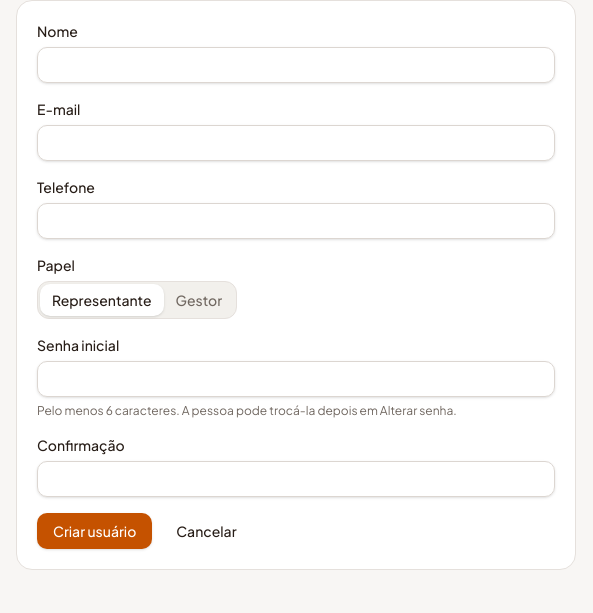
Test: NovoUsuarioPage › e-mail repetido (409) aparece junto do campo e fica na tela
Type "Bruna Lima" into the field labelled "Nome" at (296, 65), box [37,47,555,83]
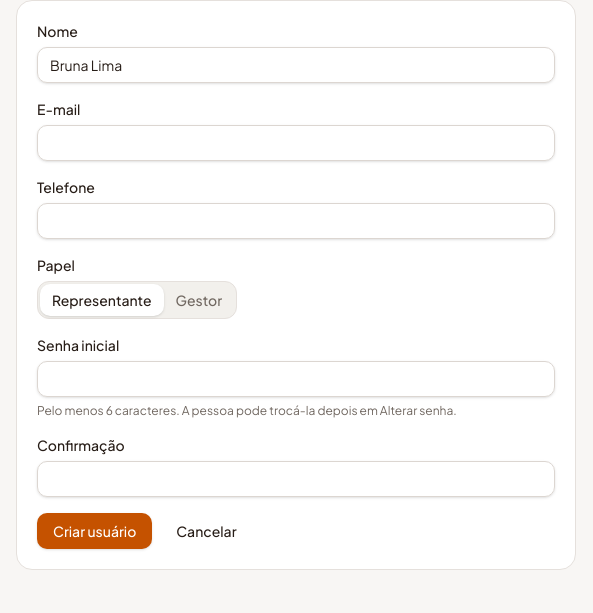
Type "bruna@chokolaten.com.br" into the field labelled "E-mail" at (296, 143), box [37,125,555,161]
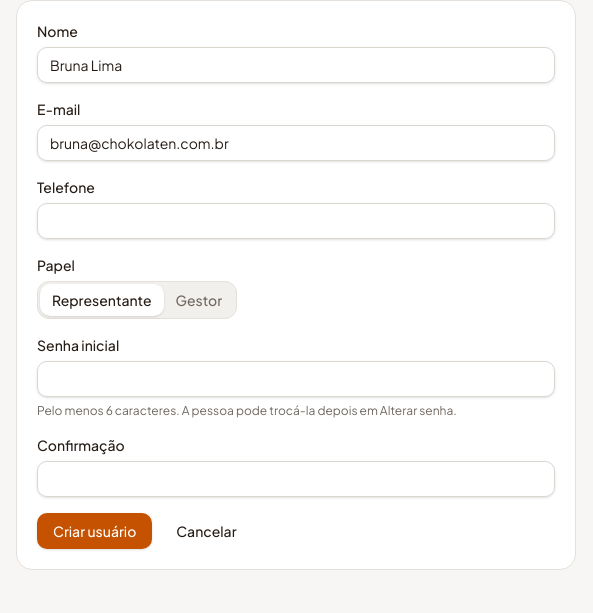
Type "(47) 99977-0000" into the field labelled "Telefone" at (296, 221), box [37,203,555,239]
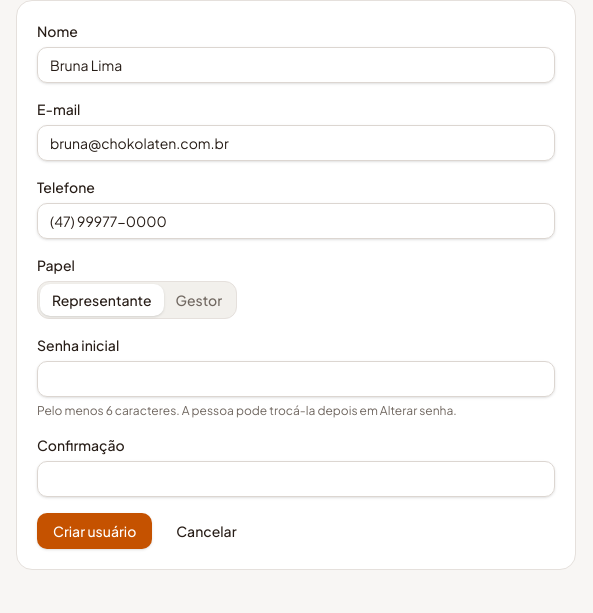
Type "segredo1" into the password field labelled "Senha inicial" at (296, 379), box [37,361,555,397]
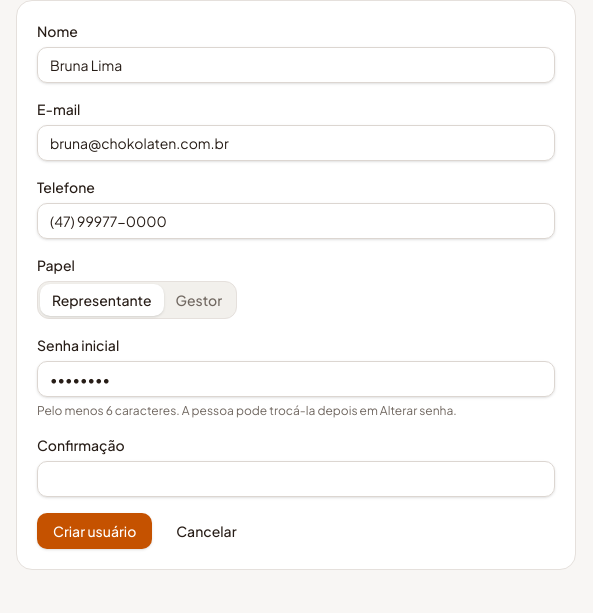
Type "segredo1" into the password field labelled "Confirmação" at (296, 479), box [37,461,555,497]
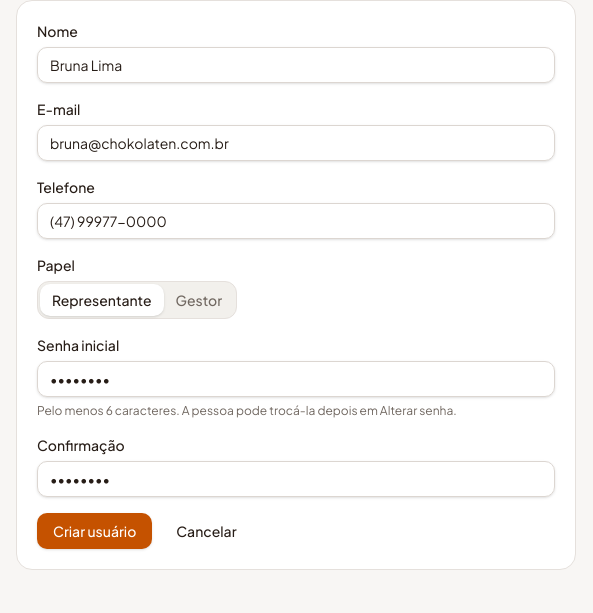
Click the button "Criar usuário" at (95, 531), box [37,513,152,549]
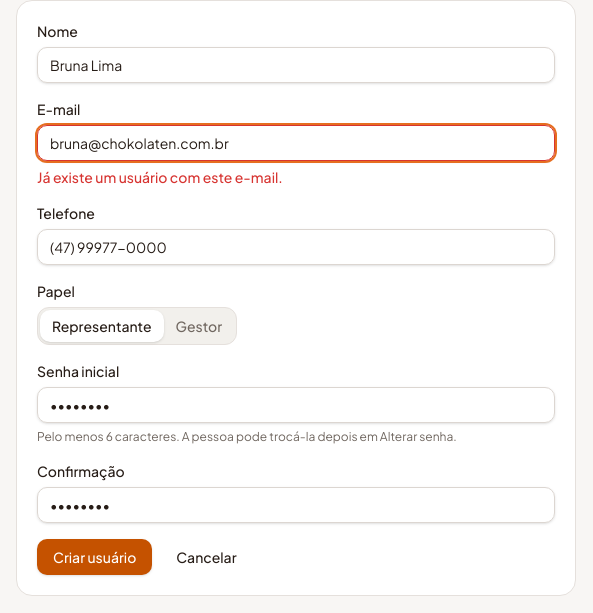
Now the text "Já existe um usuário com este e-mail." is shown, box [37,168,283,186]
